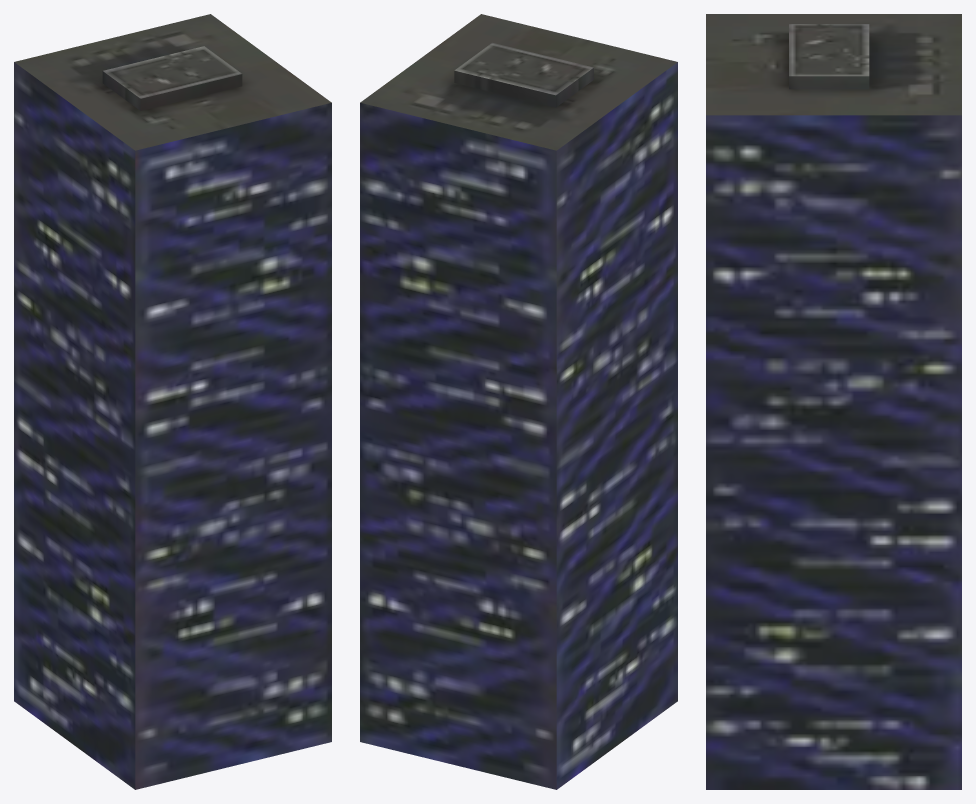
Rendered from building-night-04.glb.
The picture shows the model from 3 angles, left to right: view 1: azimuth 30°, elevation 25°; view 2: azimuth 150°, elevation 25°; view 3: azimuth 270°, elevation 25°; orthographic projection. The views are drawn at different scales.
Visible parts, largest first — view 1: Cube.001_Background_Night_Buildings_0.004; view 2: Cube.001_Background_Night_Buildings_0.004; view 3: Cube.001_Background_Night_Buildings_0.004.
Part boxes in pixels (box(x1,y1,x2,y2)): Cube.001_Background_Night_Buildings_0.004: box(14, 14, 331, 789); Cube.001_Background_Night_Buildings_0.004: box(360, 14, 677, 789); Cube.001_Background_Night_Buildings_0.004: box(706, 14, 961, 789).
Size of the model in its own units: 17.5 by 55.42 by 18.69.
Materials: 1 (1 with a texture image).
